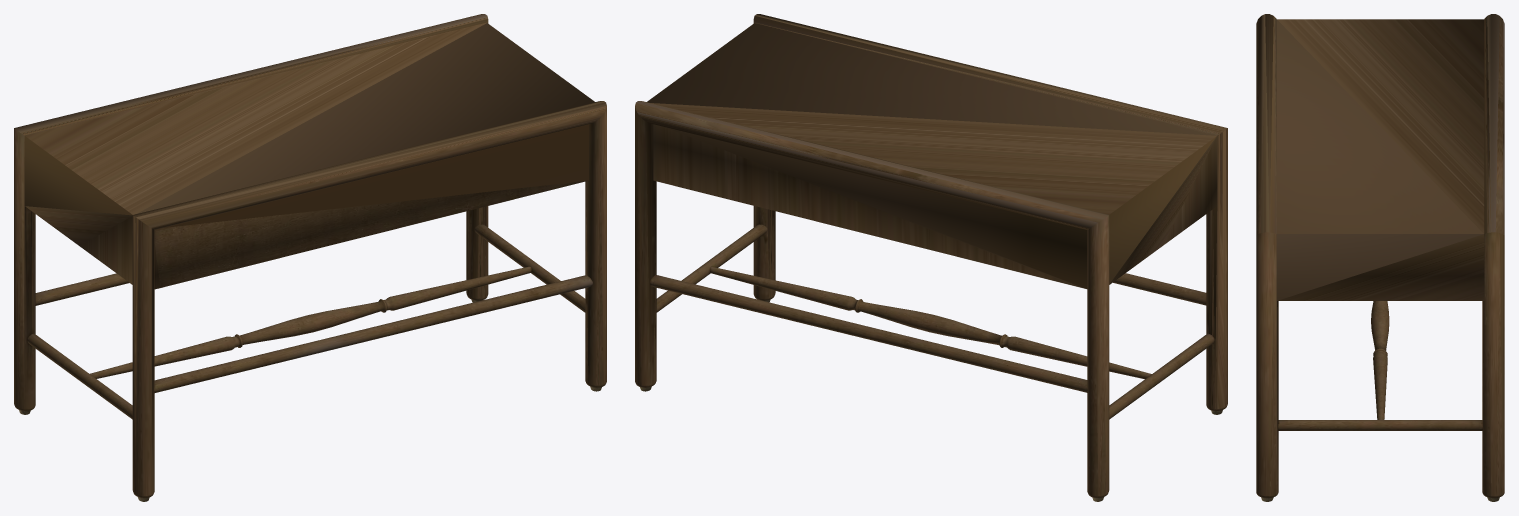
The model's file is small-wooden-table-01.glb.
The picture shows the model from 3 angles, left to right: view 1: azimuth 30°, elevation 25°; view 2: azimuth 150°, elevation 25°; view 3: azimuth 270°, elevation 25°; orthographic projection. The views are drawn at different scales.
Parts seen in each view (by area): view 1: small_wooden_table_01; view 2: small_wooden_table_01; view 3: small_wooden_table_01.
Part boxes in pixels (x1,y1,x2,y2): small_wooden_table_01: [14, 14, 606, 501]; small_wooden_table_01: [635, 14, 1227, 501]; small_wooden_table_01: [1256, 14, 1504, 501].
Size of the model in its own units: 0.9162 by 0.5331 by 0.4399.
Materials: 1 (1 with a texture image).
